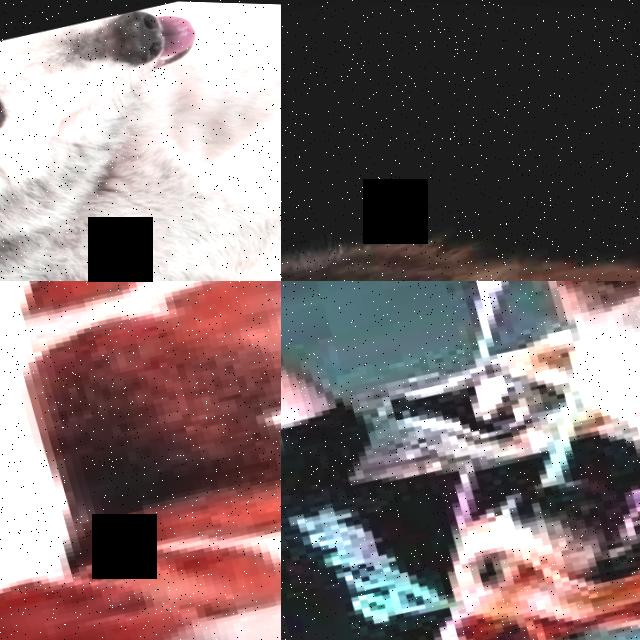dog: (0, 281, 281, 640), (373, 388, 640, 640), (485, 281, 640, 527), (327, 281, 640, 358)
wolf: (0, 0, 281, 281), (281, 113, 640, 281)
